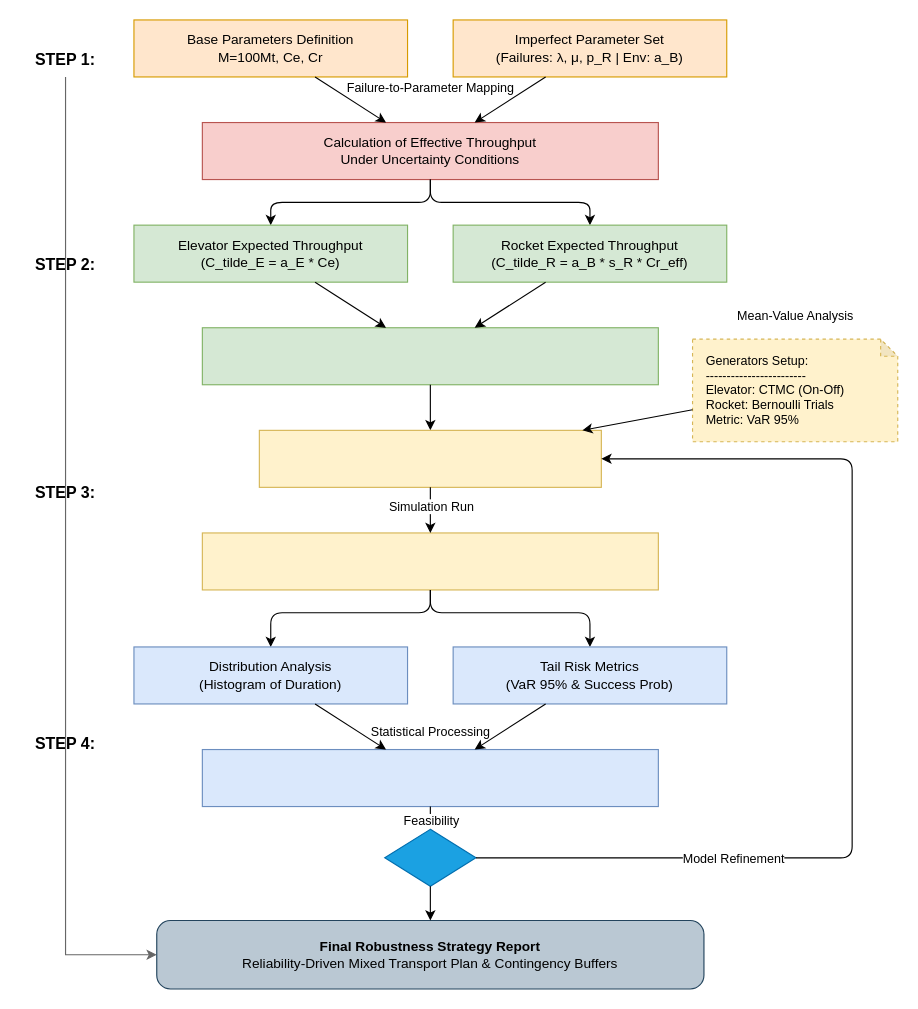
The diagram is 918 pixels wide and 1009 high, and some of its shapes have lost their labels. The shapes that lost their labels are listed below. From the top down, each one's centre as x and y in pixels, then its label:
At point (429, 356): "Measurement of Optimal Mix Ratio Shift (α*) based on Reliability".
At point (429, 458): "Monte Carlo Simulation Initialization (N Experiments for Tail Risk)".
At point (429, 561): "Stochastic Strategy Evaluation (Static α* vs. Dynamic Backup)".
At point (429, 777): "Identification of Robustness Rating & Buffer Time Recommendation".
At point (430, 857): "CHECK".
